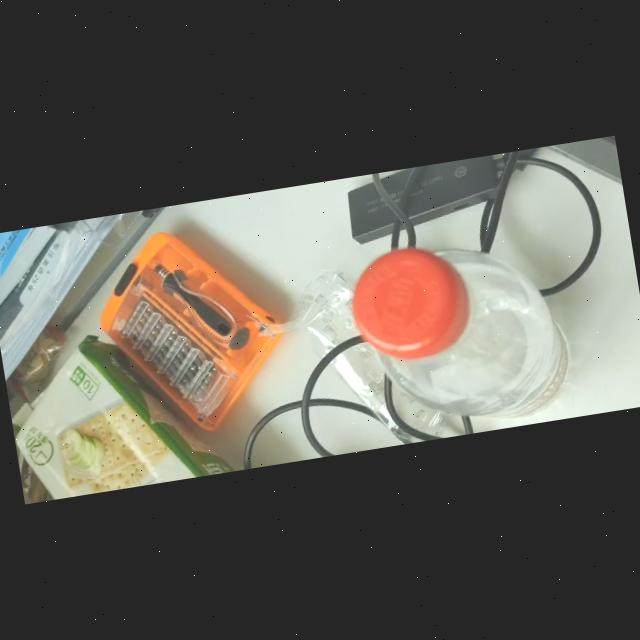trash: (344, 222, 577, 440)
